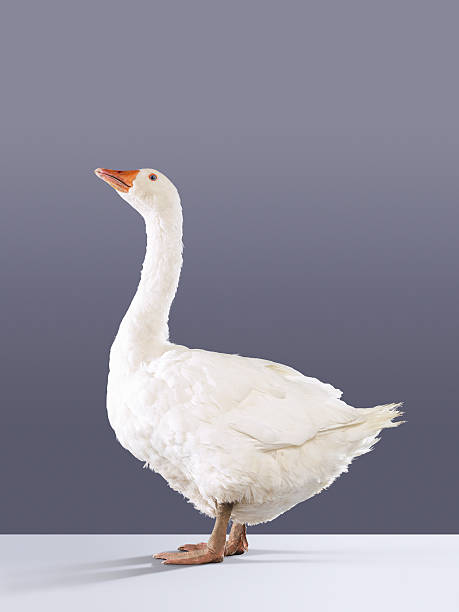goose: (88, 164, 411, 570)
